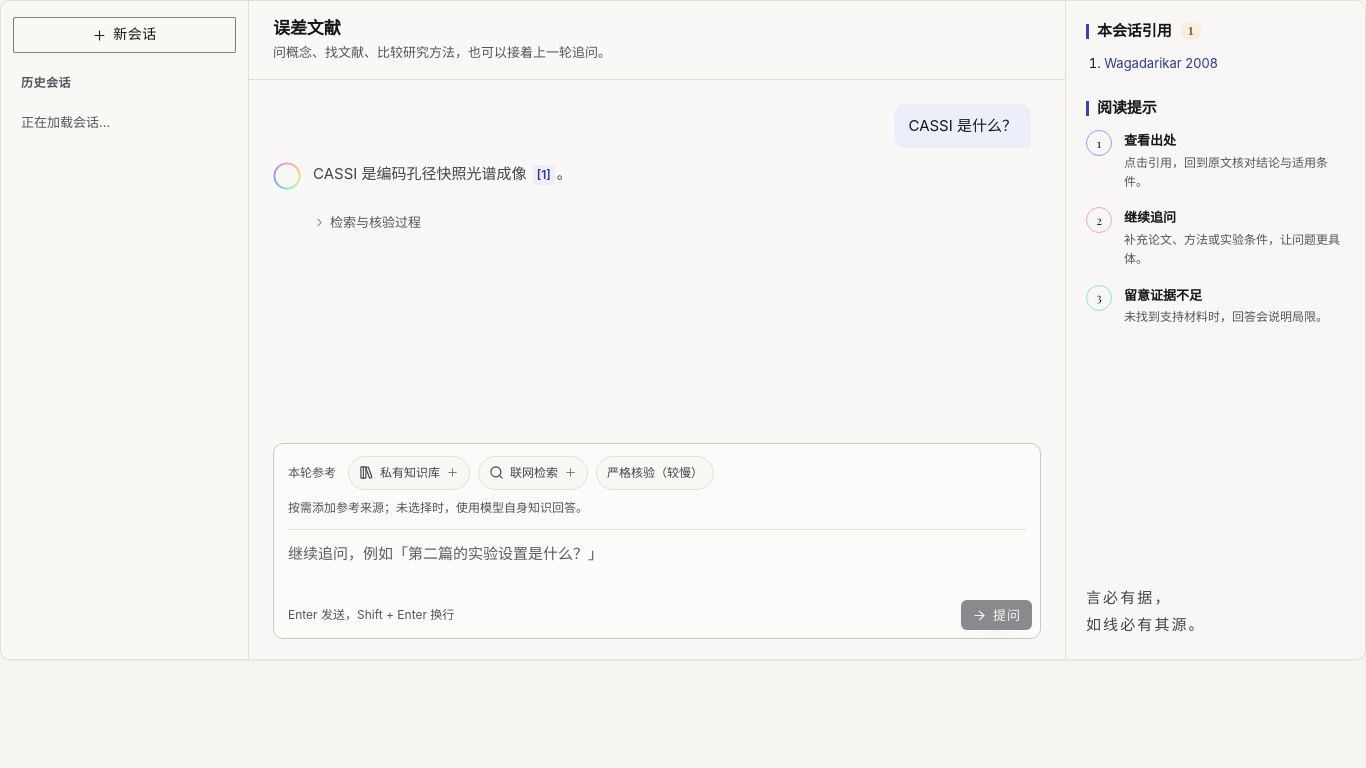
Scenario: QaPage › shows errors without losing the page
Expected: the text "CASSI 是什么？" is shown, [908, 114, 1017, 138]
Type "追问" into the text box named "输入问题" at coordinates (657, 562), box [274, 530, 1040, 594]
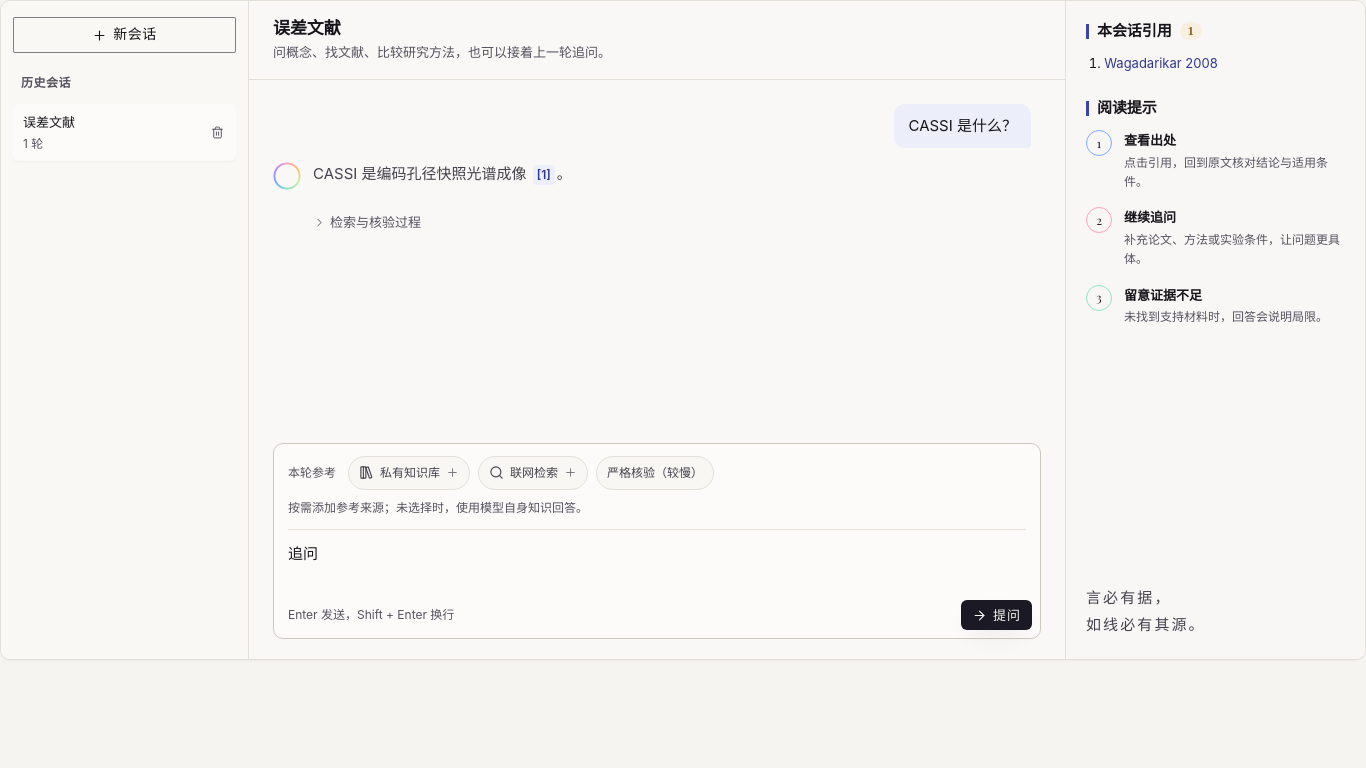
Click the button "提问" at coordinates (996, 615), box [961, 600, 1032, 630]
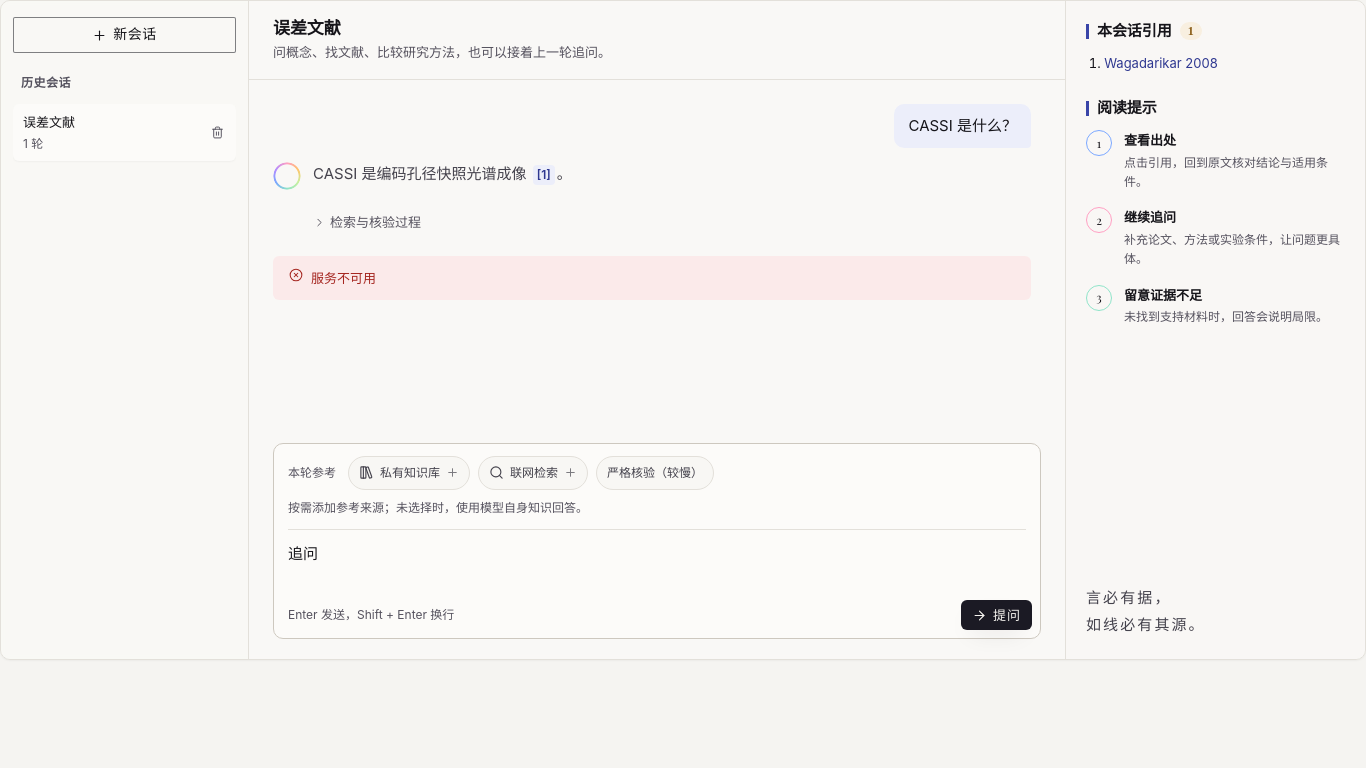
Result: the message reads "服务不可用" at [311, 270, 376, 286]
